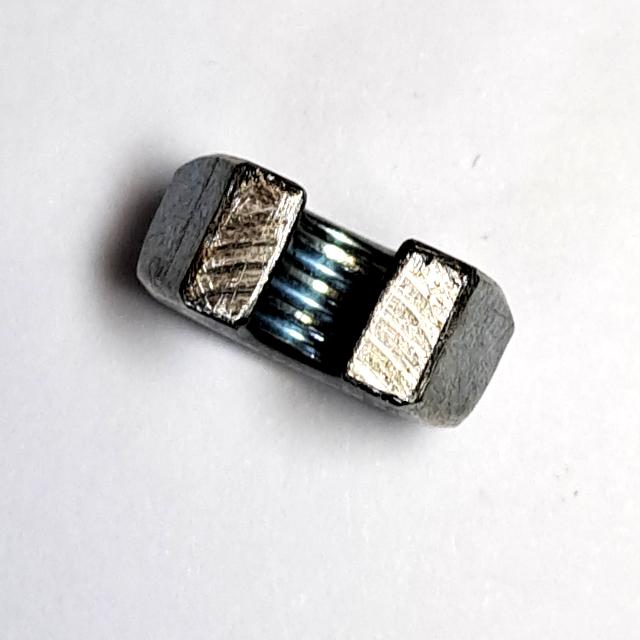Side-Fracture: (121, 132, 536, 446)
